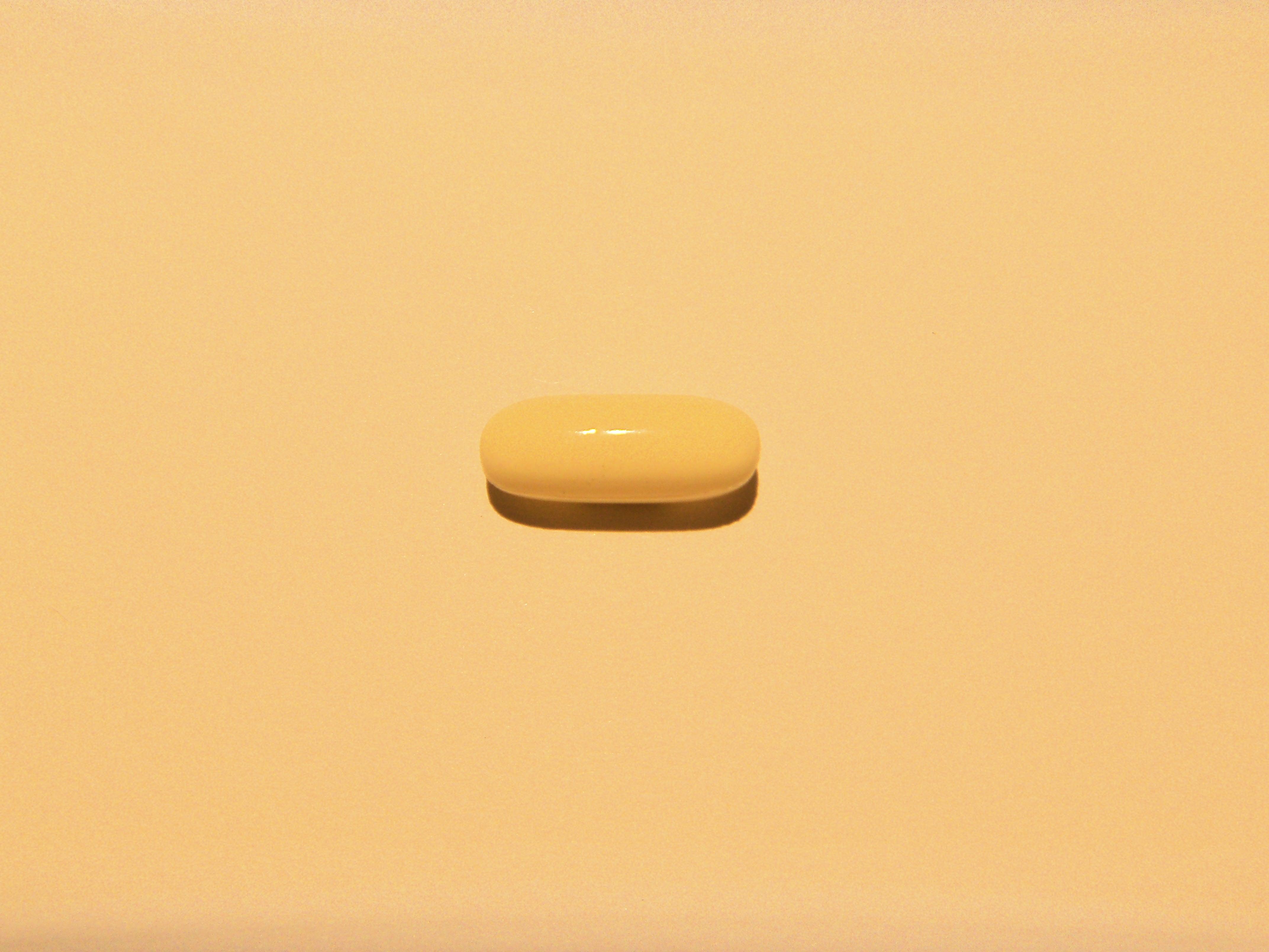Pill: (474, 385, 768, 512)
